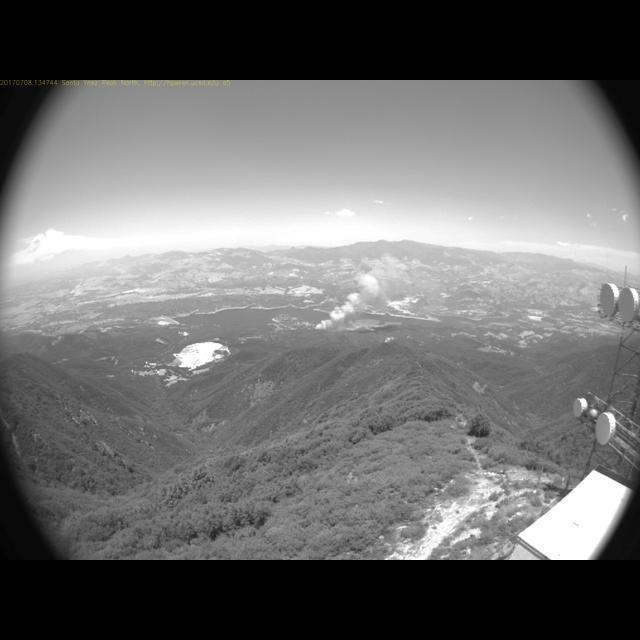Smoke: (310, 252, 414, 331)
